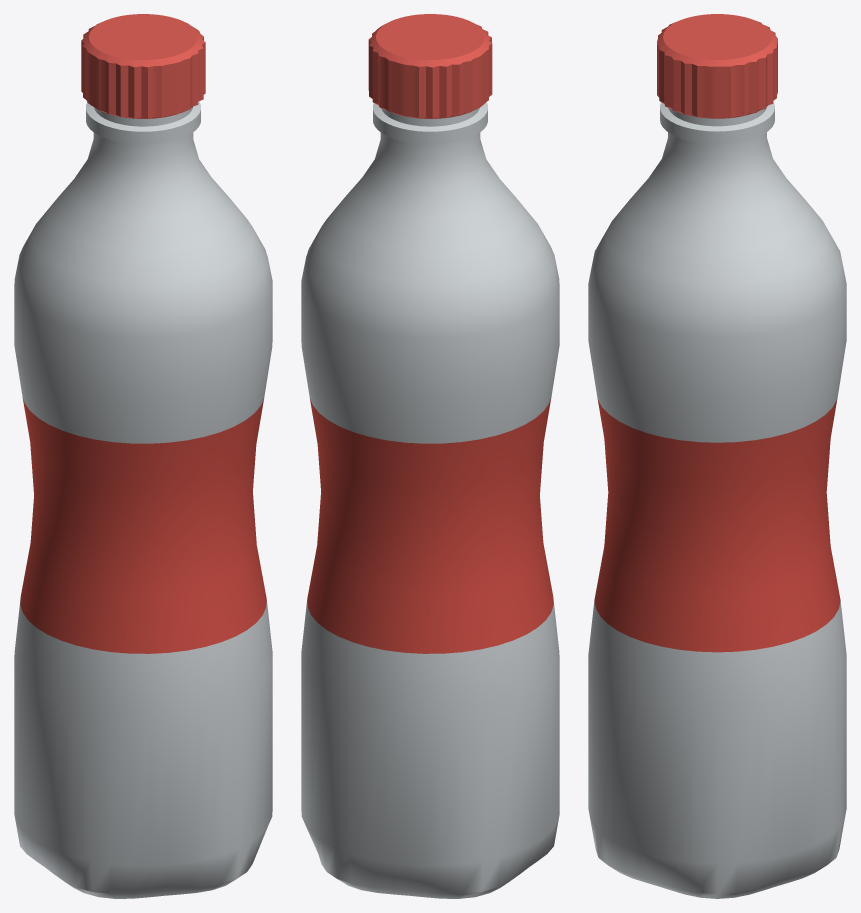
Rendered from kitchen_bottle_cola.fbx.
The picture shows the model from 3 angles, left to right: view 1: azimuth 30°, elevation 25°; view 2: azimuth 150°, elevation 25°; view 3: azimuth 270°, elevation 25°; orthographic projection.
Parts seen in each view (by area): view 1: kitchen_bottle_cola; view 2: kitchen_bottle_cola; view 3: kitchen_bottle_cola.
Boxes of the visible parts, x1,y1,x2,y2 form: kitchen_bottle_cola: [14, 14, 272, 898]; kitchen_bottle_cola: [301, 14, 559, 898]; kitchen_bottle_cola: [588, 14, 846, 898].
Size of the model in its own units: 0.065 by 0.2265 by 0.065.
